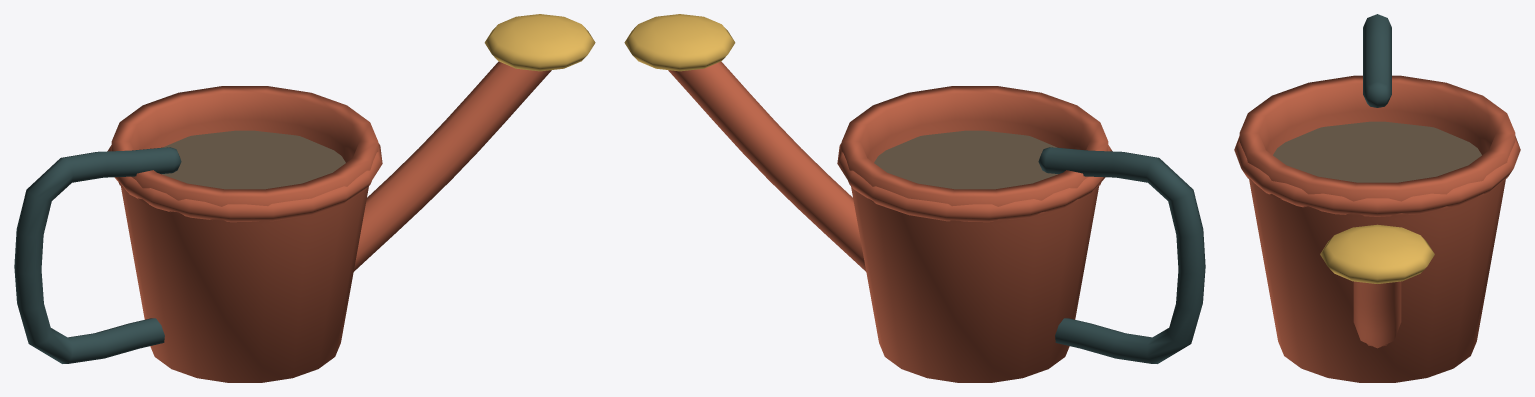
The model's file is almanac-gardens-watering-can-2f85b186__22026.glb.
3 views of the same model, side by side, from view 1: azimuth 30°, elevation 25°; view 2: azimuth 150°, elevation 25°; view 3: azimuth 270°, elevation 25° (orthographic). The views are drawn at different scales.
Parts seen in each view (by area): view 1: watering-can-clay, watering-can-iron, watering-can-soil, watering-can-gold; view 2: watering-can-clay, watering-can-iron, watering-can-soil, watering-can-gold; view 3: watering-can-clay, watering-can-soil, watering-can-gold, watering-can-iron.
Part boxes in pixels (x1,y1,x2,y2): watering-can-clay: [107, 61, 551, 382]; watering-can-iron: [14, 147, 181, 363]; watering-can-soil: [162, 130, 345, 189]; watering-can-gold: [484, 14, 595, 71]; watering-can-clay: [668, 61, 1112, 382]; watering-can-iron: [1038, 147, 1205, 363]; watering-can-soil: [874, 130, 1057, 189]; watering-can-gold: [624, 14, 735, 71]; watering-can-clay: [1234, 75, 1520, 382]; watering-can-soil: [1273, 121, 1481, 182]; watering-can-gold: [1320, 224, 1434, 283]; watering-can-iron: [1363, 14, 1391, 107].
Bounding box in the file's own units: 0.8922 × 0.365 × 0.3738.
